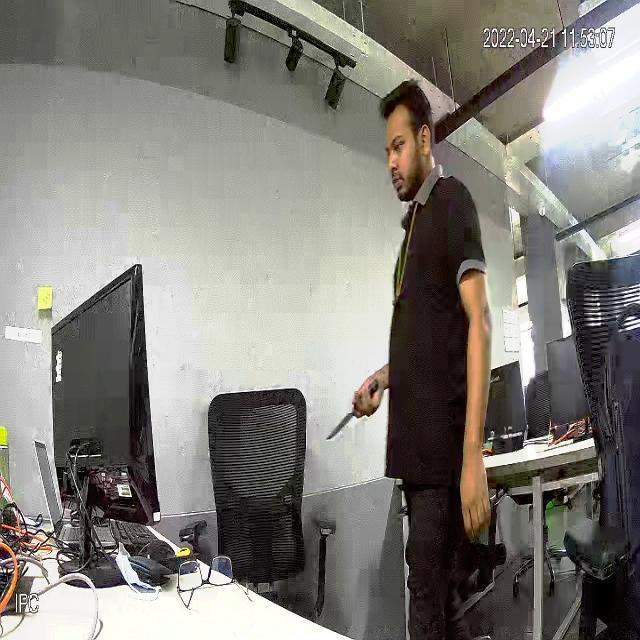Knife: (316, 374, 381, 446)
